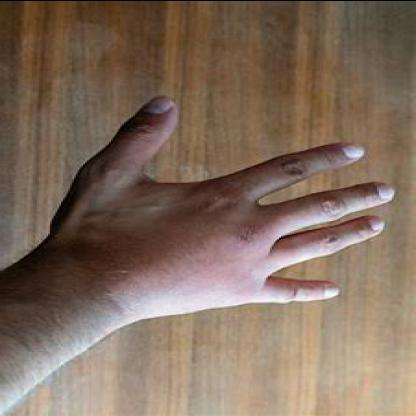Wasp: (103, 220, 259, 308)
